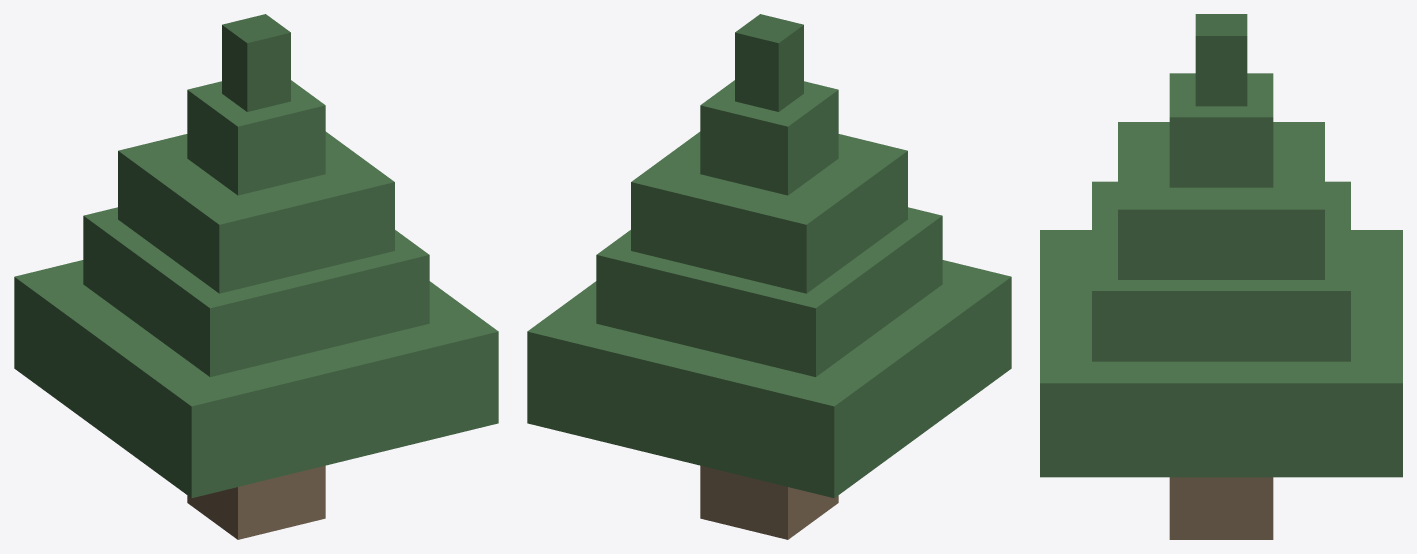
The model's file is pino_10.glb.
3 renders of one model, left to right at view 1: azimuth 30°, elevation 25°; view 2: azimuth 150°, elevation 25°; view 3: azimuth 270°, elevation 25°, orthographic. The views are drawn at different scales.
Visible parts, largest first — view 1: pino_10; view 2: pino_10; view 3: pino_10.
Part boxes in pixels (box(x1,y1,x2,y2)): pino_10: box(14, 14, 498, 539); pino_10: box(527, 14, 1011, 539); pino_10: box(1040, 14, 1402, 539).
Size of the model in its own units: 1.4 by 2.1 by 1.4.
